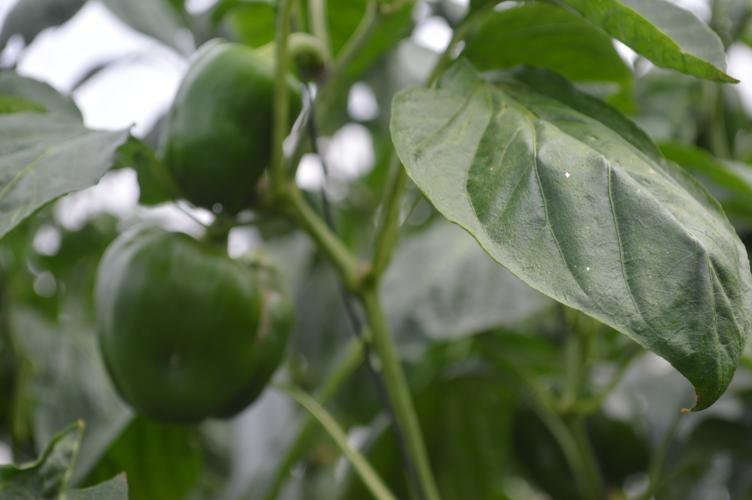BellPepper: (92, 229, 295, 421), (160, 38, 308, 201)
